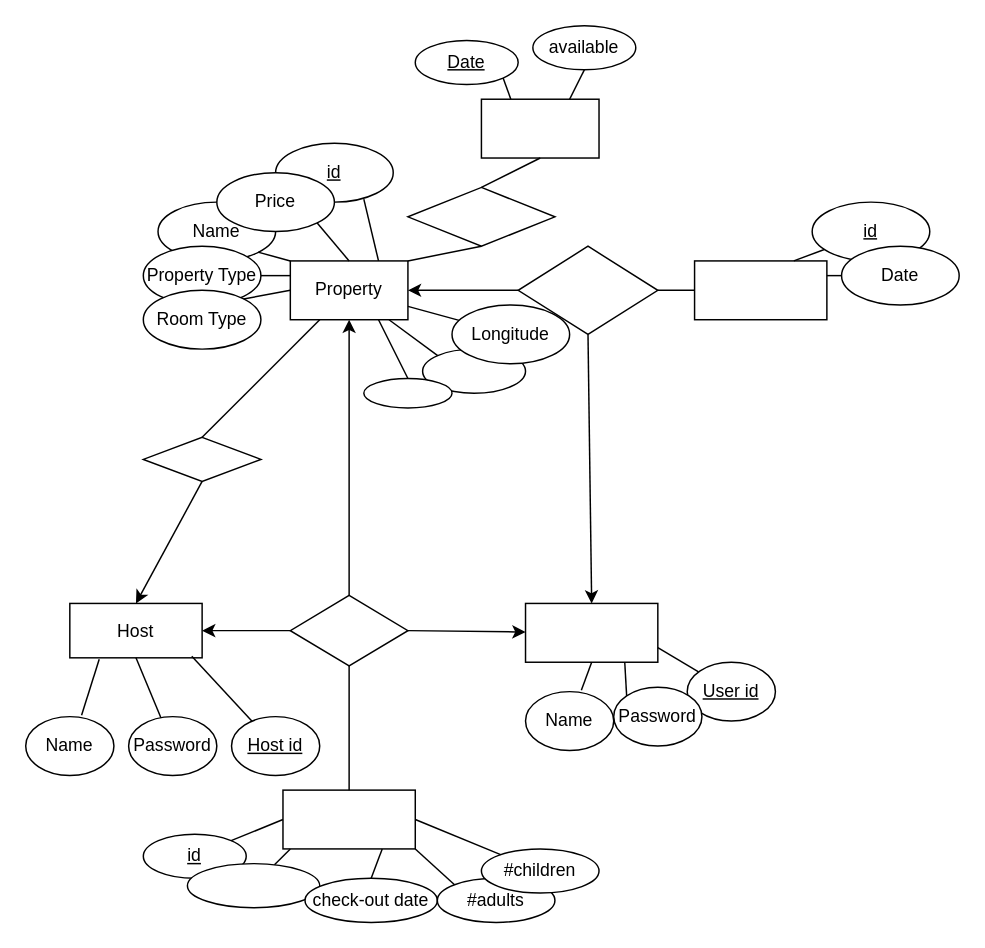
Some shapes in this 985 by 948 pixel diagram are drawn without their labels. The shapes that lost their labels are listed below. From the top down, each one's centre as x and y in pixels, then its label:
(539,128): Calender
(480,216): is available
(587,289): Gives Review
(760,289): Review
(473,370): Latitude
(407,392): City
(201,458): owns
(348,630): Books
(591,632): User
(348,819): Booking
(253,885): check-in date
